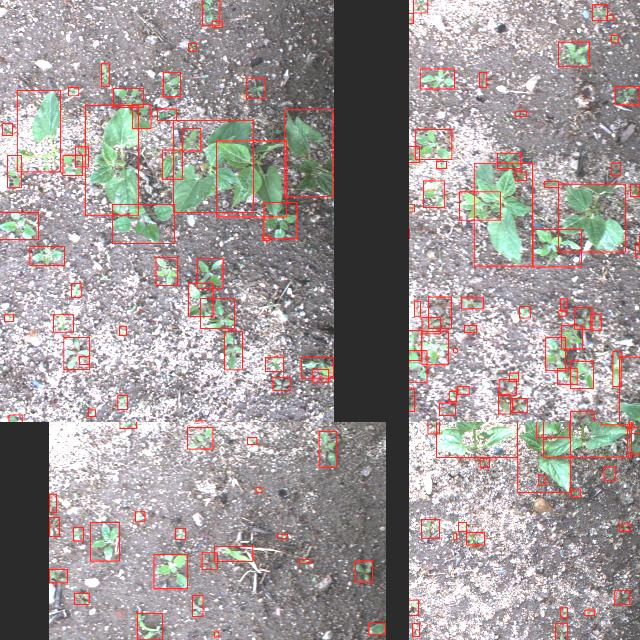crop: (172, 120, 254, 212), (473, 162, 532, 266), (84, 104, 138, 214), (216, 140, 286, 216), (557, 183, 625, 251), (284, 108, 332, 195), (516, 422, 569, 491), (16, 90, 60, 170), (543, 422, 631, 456), (435, 422, 516, 457), (112, 204, 174, 242), (161, 150, 181, 178)
weed: (532, 228, 582, 266), (619, 355, 640, 422), (153, 554, 187, 588), (264, 202, 296, 238), (458, 191, 499, 219), (89, 522, 119, 560), (414, 129, 451, 159), (200, 297, 234, 327), (0, 211, 37, 238), (421, 331, 447, 364), (63, 337, 89, 369), (188, 282, 212, 316), (196, 258, 222, 288), (136, 612, 162, 640), (224, 330, 242, 370), (418, 68, 454, 88), (558, 41, 588, 65), (428, 296, 450, 328), (545, 336, 565, 370), (301, 357, 333, 378), (570, 360, 594, 388), (28, 246, 64, 264), (318, 431, 336, 467), (155, 257, 177, 285), (422, 180, 443, 207), (113, 88, 143, 106), (214, 546, 252, 560), (188, 426, 212, 448), (409, 350, 426, 381), (536, 422, 569, 437), (562, 324, 582, 348), (6, 154, 20, 188), (201, 0, 219, 25), (162, 72, 180, 96), (132, 104, 150, 128), (615, 86, 639, 104), (62, 155, 82, 175), (182, 128, 200, 150), (574, 307, 592, 329), (496, 152, 520, 168), (247, 77, 266, 97), (52, 314, 72, 332), (420, 518, 438, 538), (356, 560, 372, 582), (409, 329, 420, 360), (627, 427, 640, 453), (420, 317, 440, 333), (557, 367, 577, 383), (612, 350, 620, 386), (498, 378, 516, 394), (74, 146, 88, 166), (570, 411, 594, 422), (265, 356, 283, 370), (48, 568, 66, 582), (497, 393, 509, 413), (272, 376, 290, 389), (157, 108, 176, 120), (313, 368, 329, 382), (592, 4, 606, 20), (202, 552, 216, 568), (614, 590, 630, 604), (460, 298, 482, 308), (192, 594, 202, 616), (466, 532, 484, 544), (555, 623, 567, 640), (48, 516, 58, 536), (512, 398, 526, 412), (101, 62, 109, 86), (439, 402, 455, 414), (369, 622, 385, 634), (412, 0, 427, 12), (74, 592, 88, 604), (117, 394, 127, 410), (590, 313, 600, 329), (603, 466, 615, 479), (0, 123, 12, 135), (409, 146, 418, 162), (518, 306, 530, 318), (70, 283, 80, 297), (72, 526, 82, 540), (427, 422, 439, 433), (610, 162, 620, 175), (49, 493, 56, 511), (514, 170, 526, 180), (409, 599, 417, 614), (478, 72, 486, 86), (7, 414, 20, 422), (508, 372, 518, 382), (175, 528, 185, 538), (134, 511, 144, 521), (479, 457, 489, 467), (78, 356, 90, 364), (630, 184, 638, 196), (413, 300, 419, 316), (463, 324, 475, 332), (456, 386, 468, 394), (68, 86, 78, 95), (118, 422, 135, 427), (544, 181, 558, 187), (412, 622, 418, 636), (448, 390, 456, 400), (436, 160, 446, 168), (246, 436, 256, 444), (560, 607, 568, 617), (538, 475, 546, 485), (634, 244, 640, 256), (514, 110, 526, 116), (560, 298, 566, 310), (571, 489, 581, 496), (188, 42, 196, 50), (458, 522, 466, 530), (212, 21, 222, 27), (3, 314, 13, 320), (277, 532, 287, 538), (620, 524, 630, 530), (584, 609, 594, 615), (118, 326, 125, 334), (610, 34, 618, 41), (88, 408, 94, 416), (606, 14, 614, 20), (558, 310, 566, 316), (298, 559, 310, 563), (255, 486, 261, 492), (409, 203, 413, 211), (409, 12, 412, 22), (262, 236, 268, 240), (452, 348, 458, 352), (452, 533, 456, 539), (196, 420, 205, 422), (214, 632, 218, 636)
